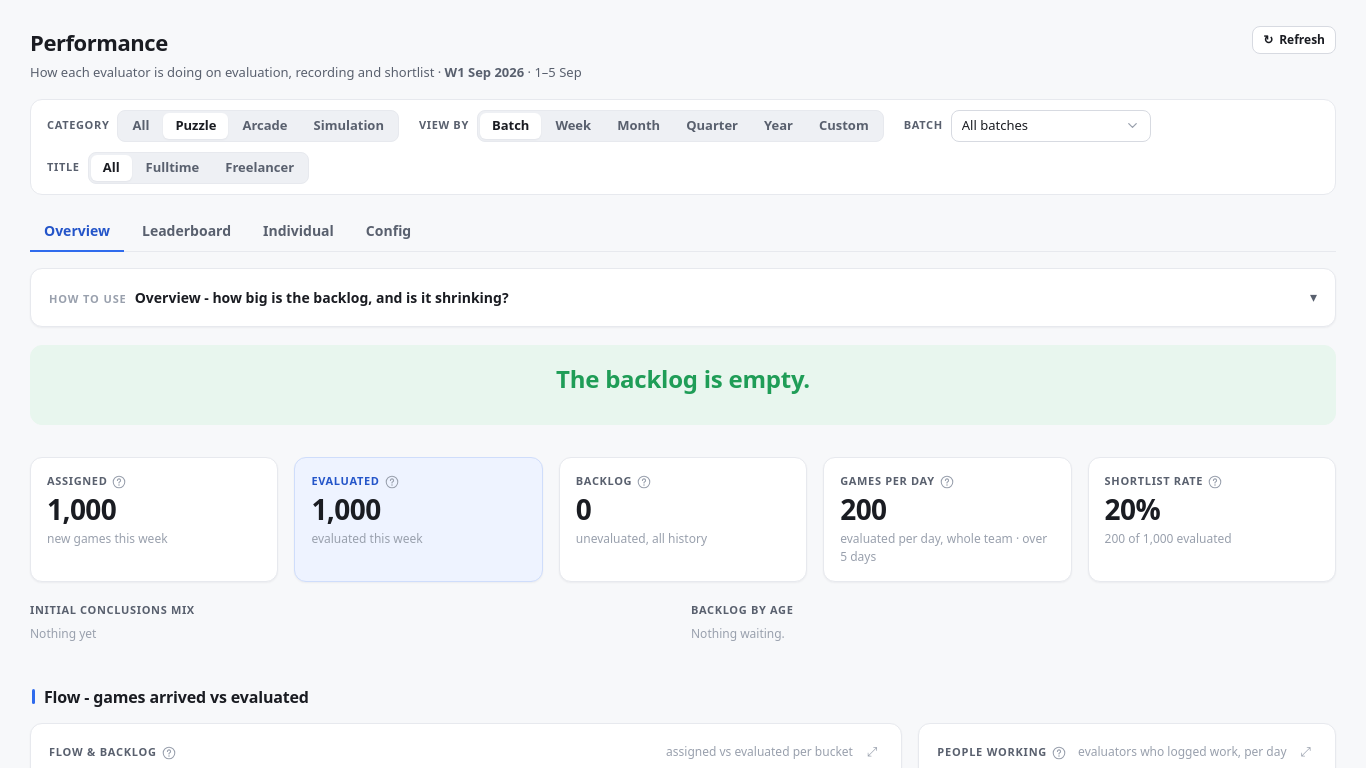
Test: Leaderboard tab › reads guide, sentence, chips, actions - with no KPI row and nothing folded away
Click the button "Leaderboard" at (187, 231), box x1=128 y1=210 x2=245 y2=252
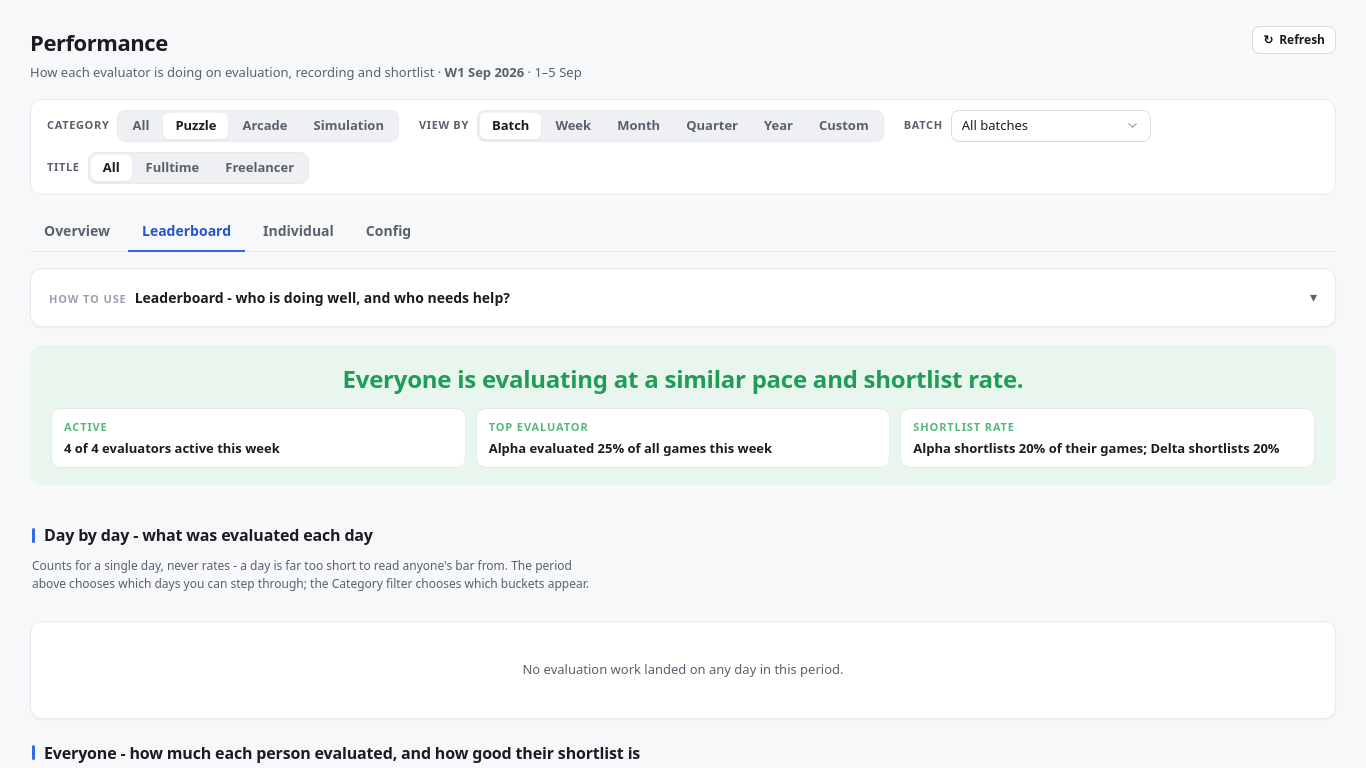
Now the element with class "rp-kpi" is gone
